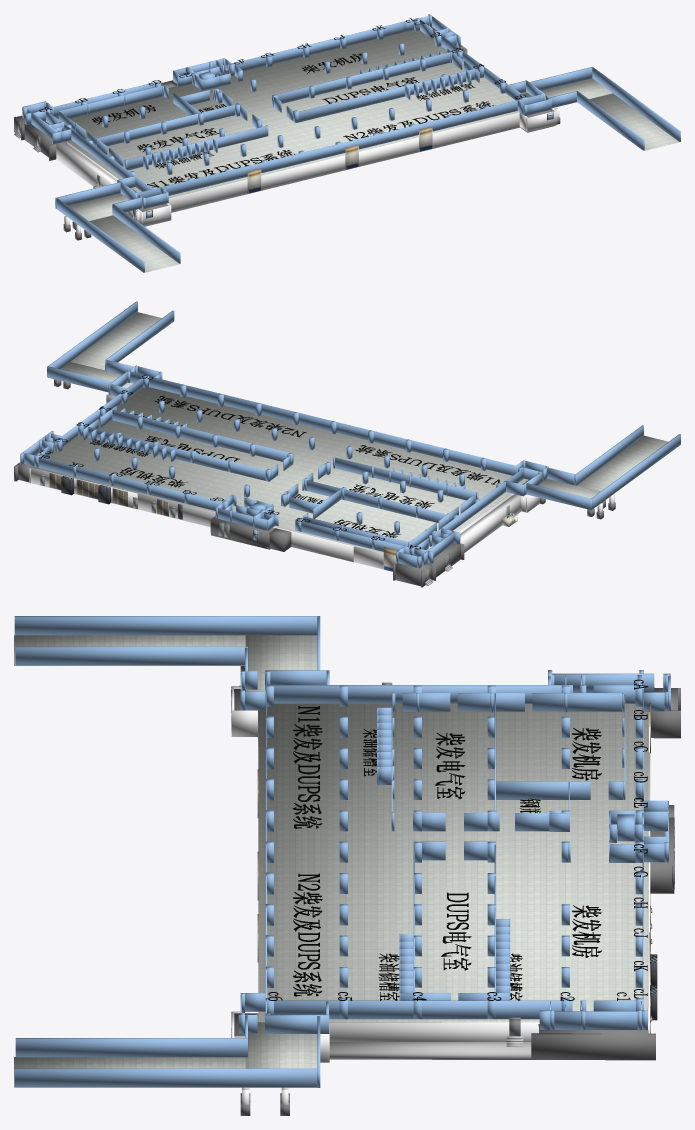
File: cup_2f_mini.gltf
3 renders of one model, top to bottom at view 1: azimuth 30°, elevation 25°; view 2: azimuth 150°, elevation 25°; view 3: azimuth 270°, elevation 25°, orthographic. The views are drawn at different scales.
Visible parts, largest first — view 1: cup_dimian_2f, cup_waiguan_2_107, cup_qiang_2f_98, cup_qiang_2f_156, cup_dimian_2f_1, cup_dimian_2f_2, cup_qiang_2f_157, cup_qiang_2f_36, cup_qiang_2f_138, cup_qiang_2f_142, cup_qiang_2f_137, cup_qiang_2f_233 (+15 smaller); view 2: cup_dimian_2f, cup_qiang_2f_98, cup_waiguan_2_55, cup_qiang_2f_36, cup_qiang_2f_157, cup_dimian_2f_1, cup_dimian_2f_2, cup_qiang_2f_156, cup_qiang_2f_142, cup_qiang_2f_138, cup_waiguan_2_5, cup_qiang_2f_233 (+20 smaller); view 3: cup_dimian_2f, cup_qiang_2f_237, cup_qiang_2f_233, cup_qiang_2f_72, cup_qiang_2f_238, cup_qiang_2f_234, cup_waiguan_2_99, cup_qiang_2f_115, cup_waiguan_2_75, cup_waiguan_2_94, cup_dimian_2f_2, cup_dimian_2f_1 (+17 smaller).
Boxes of the visible parts, left/top/right/bottom form: cup_dimian_2f: left=44, top=29, right=519, bottom=197; cup_waiguan_2_107: left=168, top=113, right=520, bottom=212; cup_qiang_2f_98: left=137, top=94, right=541, bottom=197; cup_qiang_2f_156: left=276, top=52, right=450, bottom=103; cup_dimian_2f_1: left=589, top=93, right=680, bottom=150; cup_dimian_2f_2: left=89, top=215, right=180, bottom=272; cup_qiang_2f_157: left=299, top=69, right=474, bottom=122; cup_qiang_2f_36: left=227, top=21, right=403, bottom=73; cup_qiang_2f_138: left=96, top=104, right=235, bottom=146; cup_qiang_2f_142: left=127, top=126, right=266, bottom=170; cup_qiang_2f_137: left=60, top=85, right=162, bottom=118; cup_qiang_2f_233: left=56, top=198, right=144, bottom=272; cup_dimian_2f: left=30, top=387, right=527, bottom=553; cup_qiang_2f_98: left=130, top=371, right=538, bottom=479; cup_waiguan_2_55: left=137, top=493, right=353, bottom=562; cup_qiang_2f_36: left=38, top=457, right=227, bottom=510; cup_qiang_2f_157: left=112, top=409, right=289, bottom=461; cup_dimian_2f_1: left=70, top=312, right=161, bottom=370; cup_dimian_2f_2: left=577, top=435, right=668, bottom=491; cup_qiang_2f_156: left=88, top=427, right=265, bottom=480; cup_qiang_2f_142: left=335, top=457, right=476, bottom=500; cup_qiang_2f_138: left=306, top=480, right=447, bottom=522; cup_waiguan_2_5: left=460, top=494, right=521, bottom=552; cup_qiang_2f_233: left=591, top=434, right=680, bottom=508; cup_dimian_2f: left=258, top=703, right=648, bottom=1022; cup_qiang_2f_237: left=14, top=1068, right=317, bottom=1087; cup_qiang_2f_233: left=14, top=616, right=317, bottom=635; cup_qiang_2f_72: left=274, top=1000, right=572, bottom=1019; cup_qiang_2f_238: left=15, top=1038, right=247, bottom=1057; cup_qiang_2f_234: left=15, top=646, right=247, bottom=665; cup_waiguan_2_99: left=329, top=1022, right=650, bottom=1041; cup_qiang_2f_115: left=265, top=685, right=572, bottom=703; cup_waiguan_2_75: left=329, top=1042, right=531, bottom=1059; cup_waiguan_2_94: left=531, top=1033, right=655, bottom=1060; cup_dimian_2f_2: left=14, top=635, right=245, bottom=665; cup_dimian_2f_1: left=14, top=1057, right=245, bottom=1087.
Bounding box in the file's own units: 274 × 13.37 × 169.
Materials: 21 (11 with a texture image).
